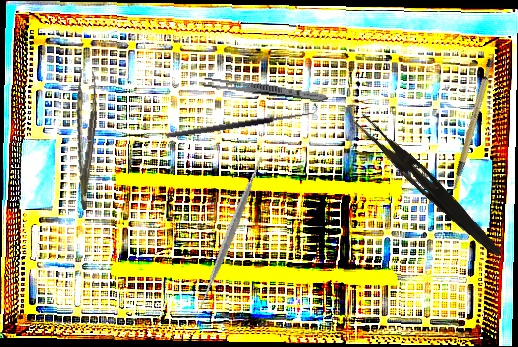Dressing Forceps: (348, 112, 510, 260), (200, 76, 330, 104)
Hook Surgical: (164, 102, 319, 140)
Scalpel Handle: (431, 57, 511, 192)
Spatula Surgical: (152, 154, 309, 311)
Tissue Forceps: (63, 69, 104, 210)
